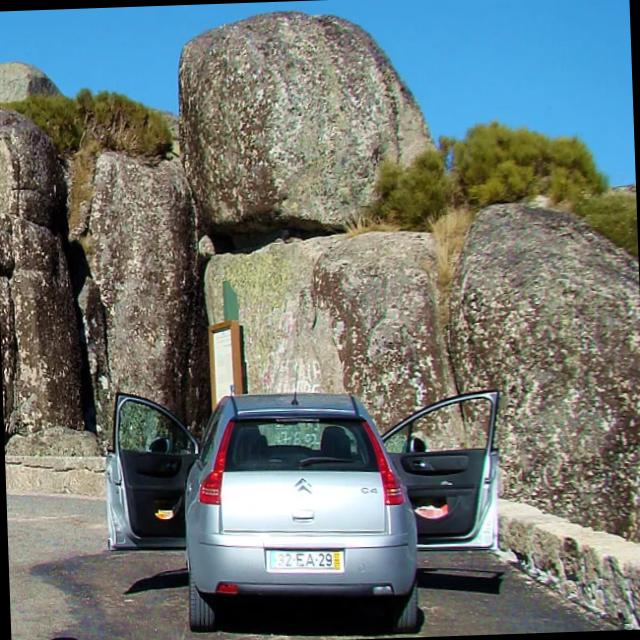portuguese-license-plates: (265, 545, 345, 578)
